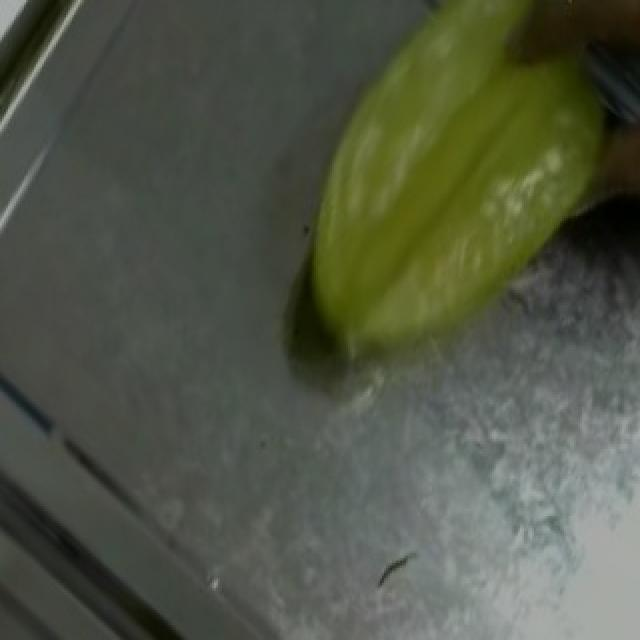fruit: (264, 0, 640, 377)
